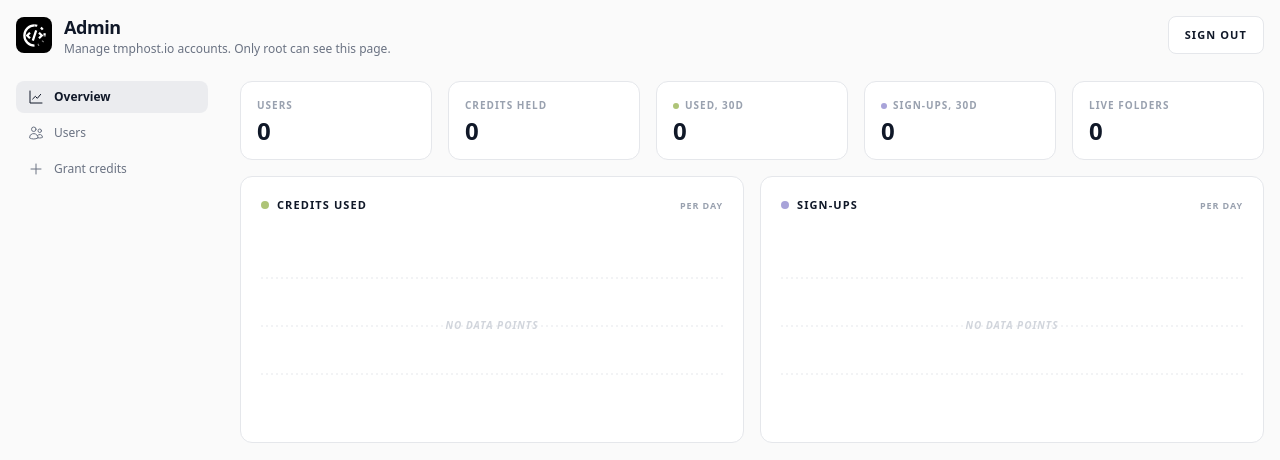
Scenario: AdminView › names a single user when everyone is one user
Click the button with test id "admin-tab-grant".
click(112, 169)  # box [16,153,208,185]
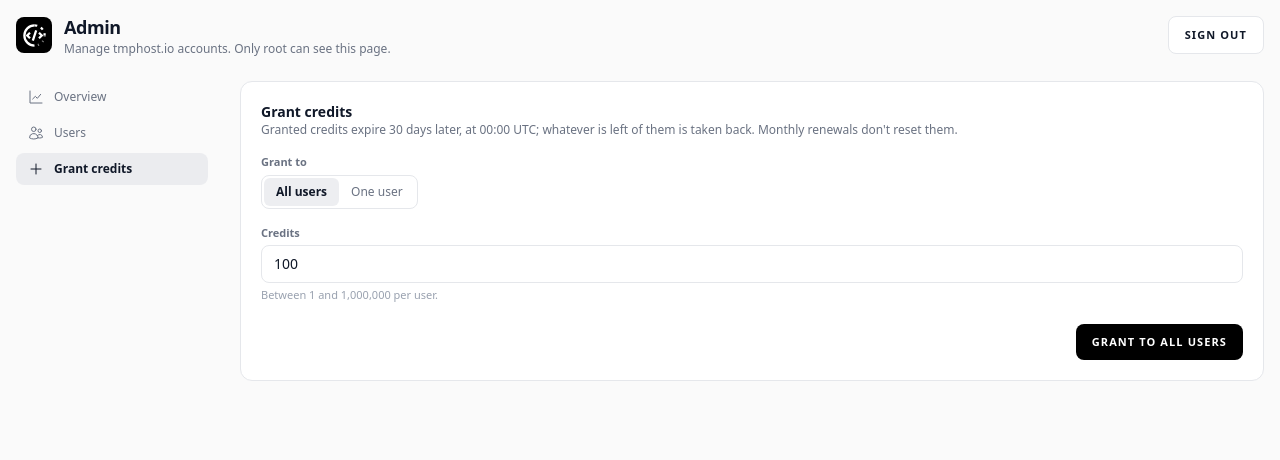
Submit the form with test id "admin-grant", box [240,81,1264,381]
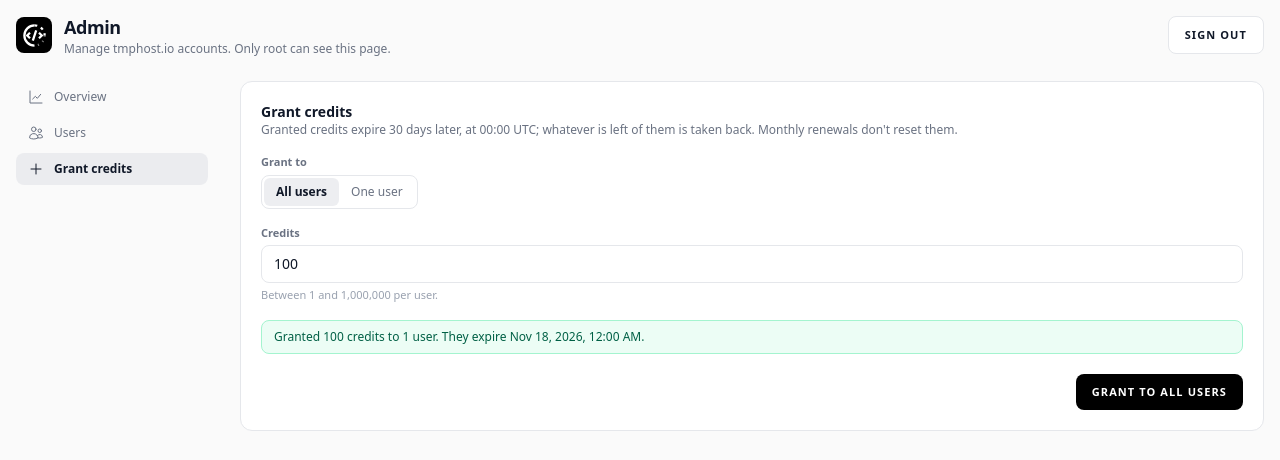
Now the text with test id "admin-grant-result" shows "Granted 100 credits to 1 user.", box [274,328,644,344]
